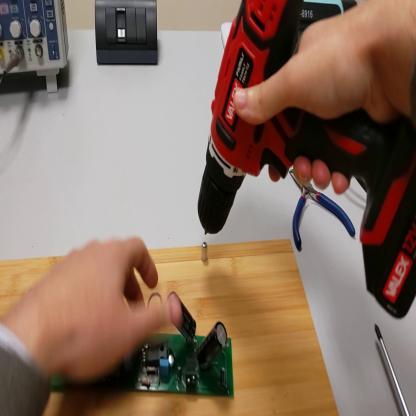electric screwdriver: (192, 2, 416, 323)
hand: (231, 9, 398, 197), (23, 236, 183, 380)
high voltage board: (125, 289, 234, 393)
oscilloscope: (2, 2, 70, 95)
pliers: (288, 170, 358, 258)
screwdriver-: (376, 326, 412, 416)
working area: (1, 239, 340, 416)
